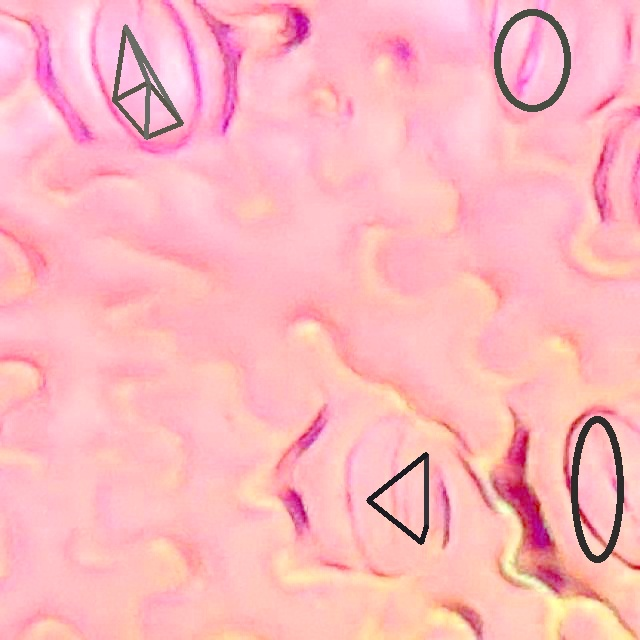close: (112, 24, 183, 139), (570, 416, 624, 563), (367, 453, 427, 543)
open: (493, 9, 571, 112)
